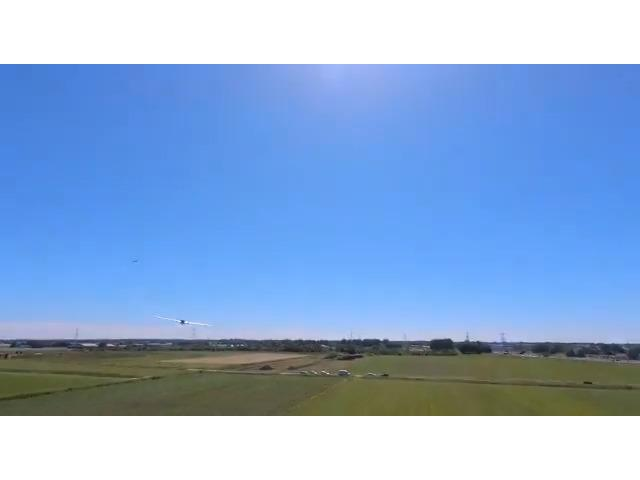Anti-Drone: (148, 306, 222, 336)
